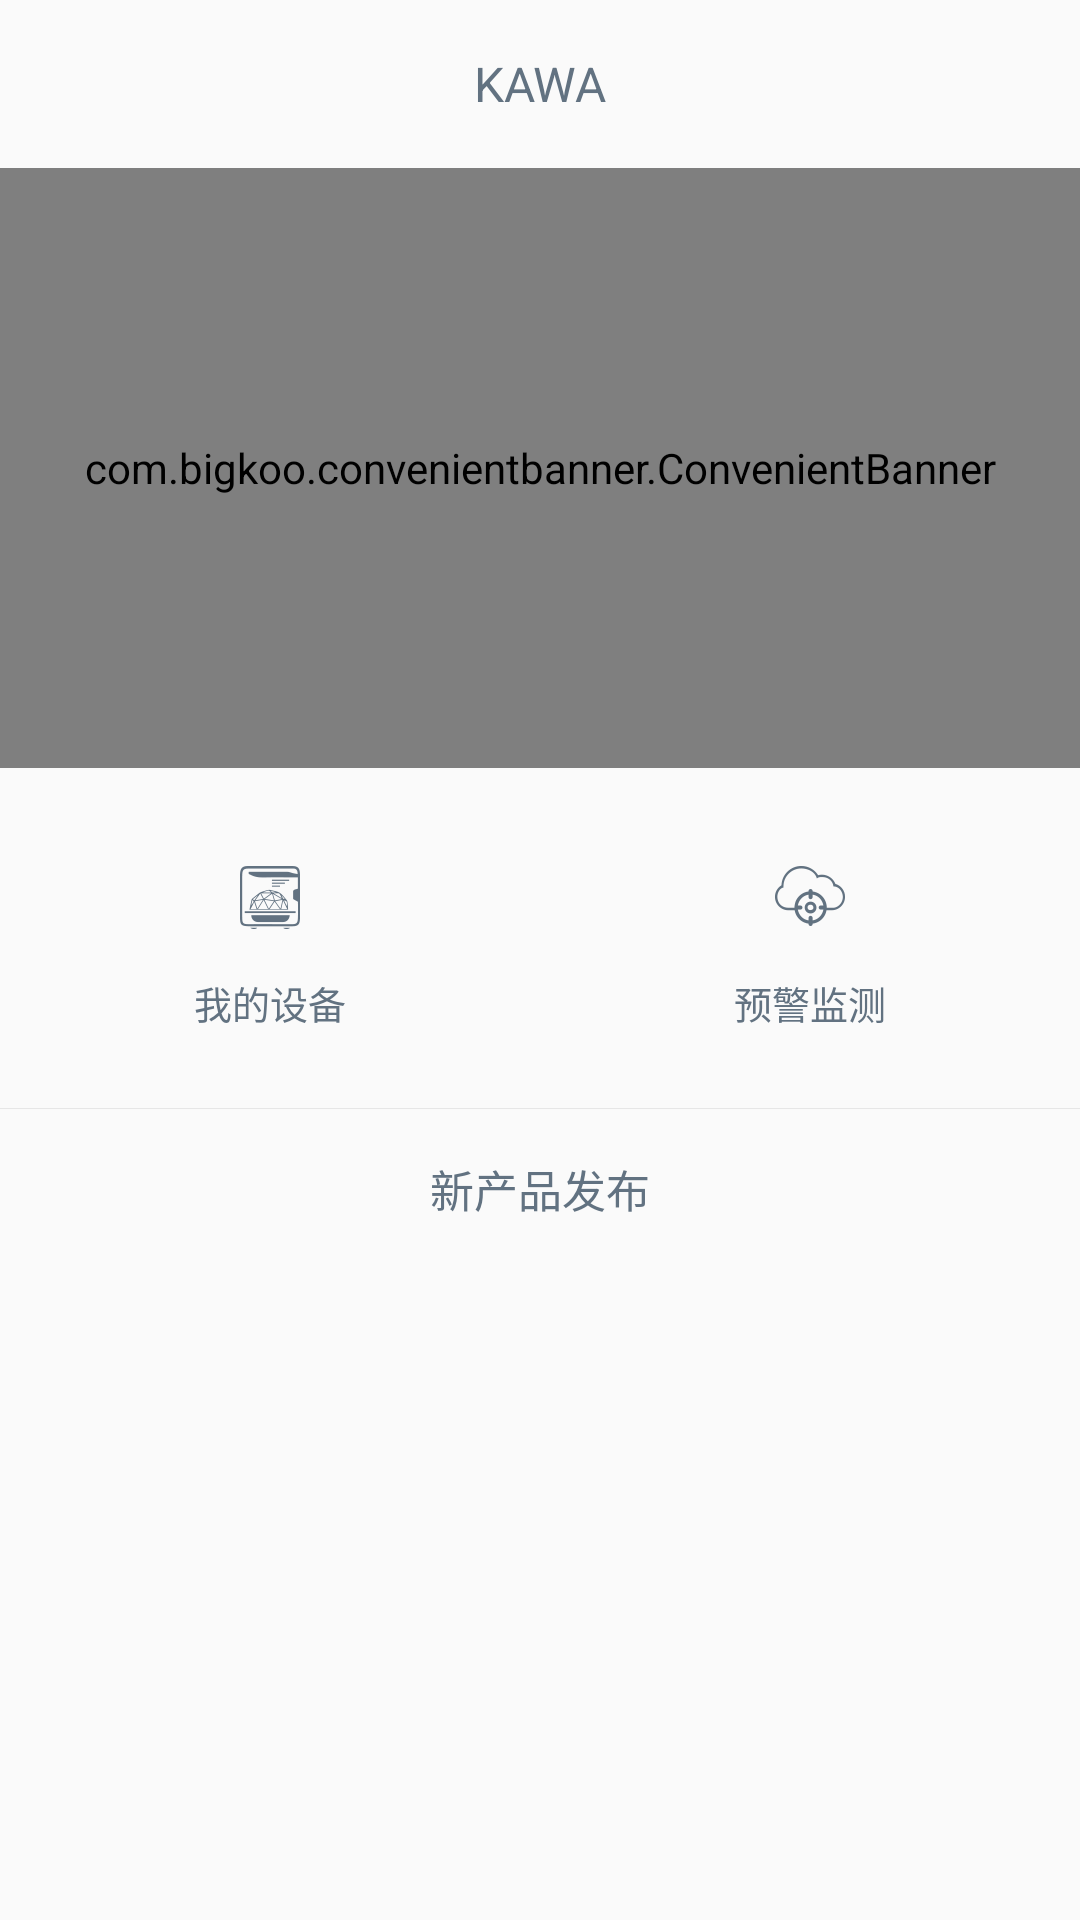

Named icons in this screenshot (1080px×1920px) and their centers, point (x, y):
shebeiguanli: point (270, 897)
yujingjiance: point (810, 896)
